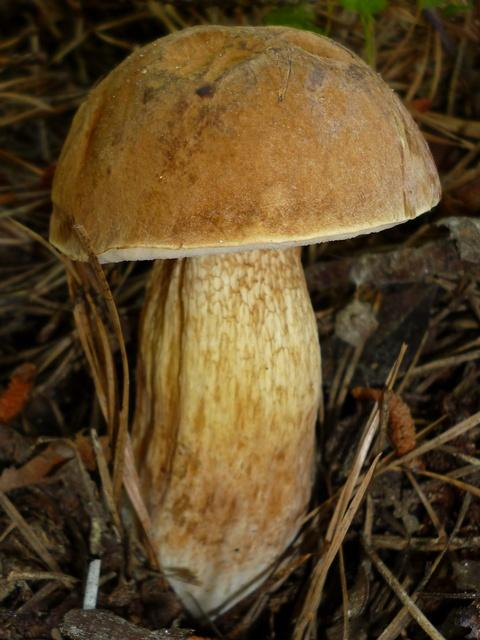Non-edible Mushroom: (47, 22, 442, 624)
